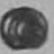correct: (0, 6, 49, 54)
